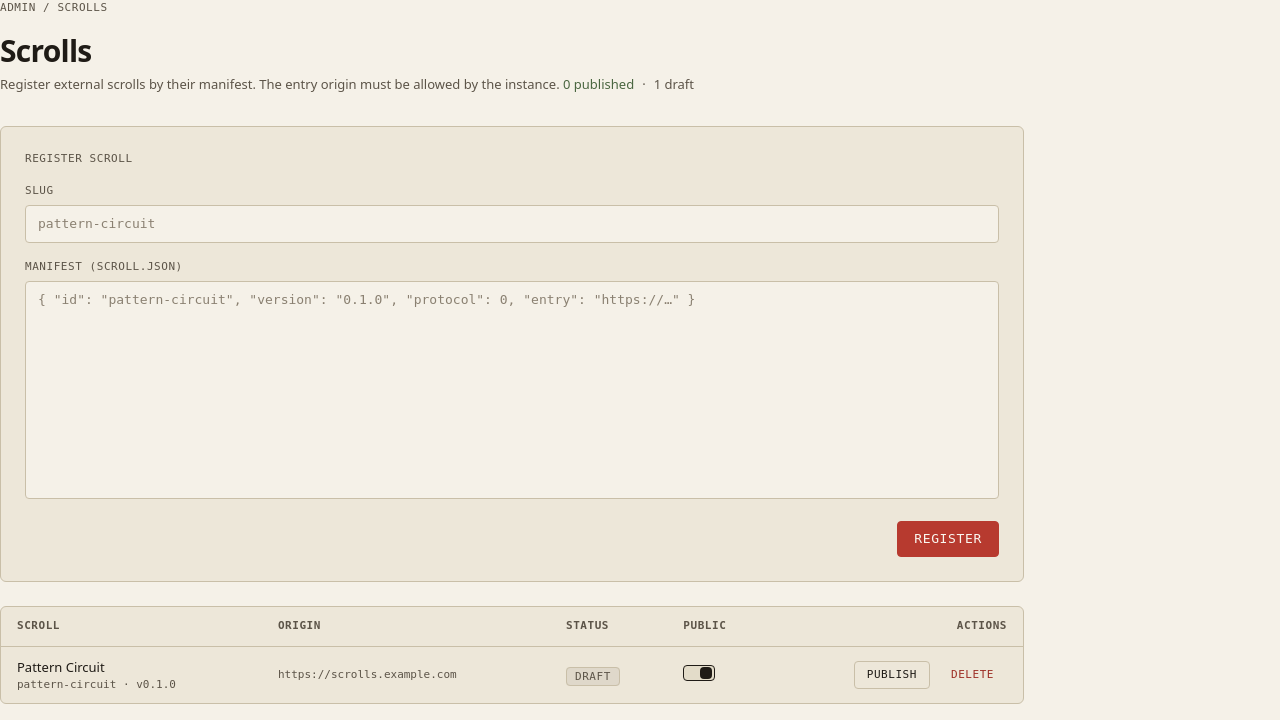
Test: AdminScrollsPage — delete › asks for confirmation and deletes nothing when cancelled
The image size is (1280, 720).
Click the button with aria-label "Delete pattern-circuit" at (972, 675), box [938,661,1007,689]
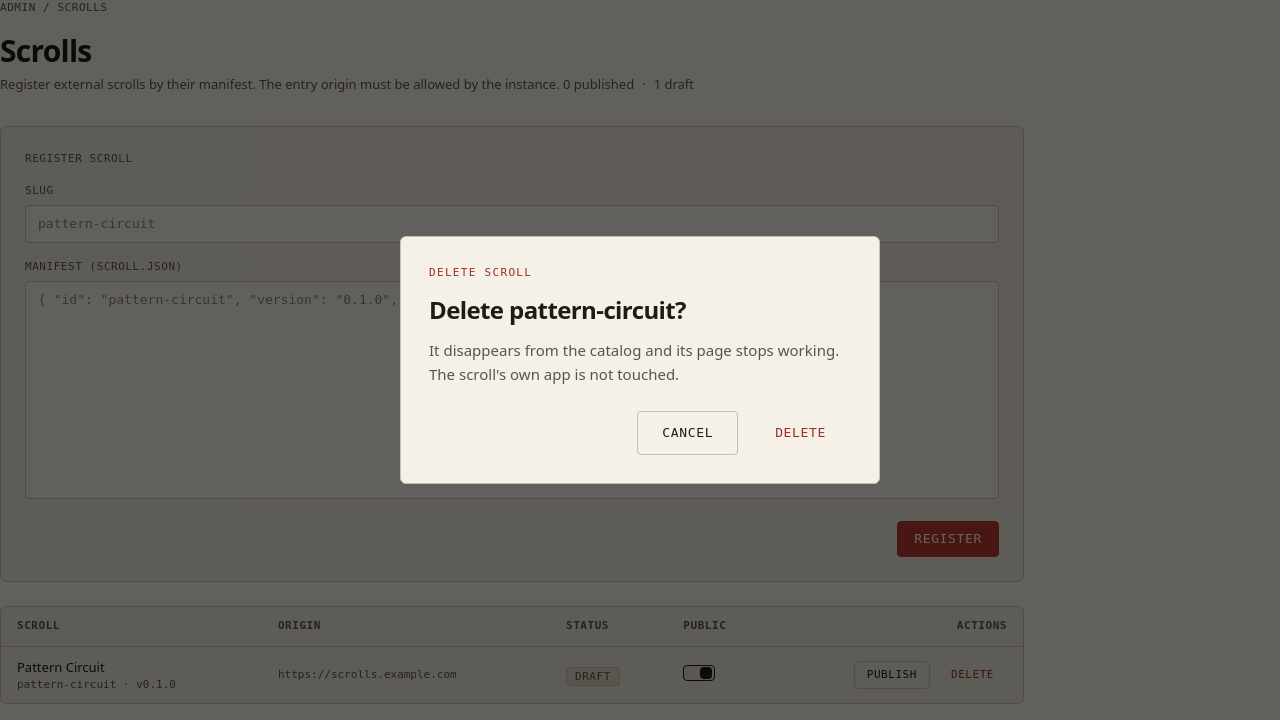
Now the heading "Delete pattern-circuit?" is shown, box [429,293,686,326]
Click the button "Cancel" at (688, 433), box [637,411,738,455]
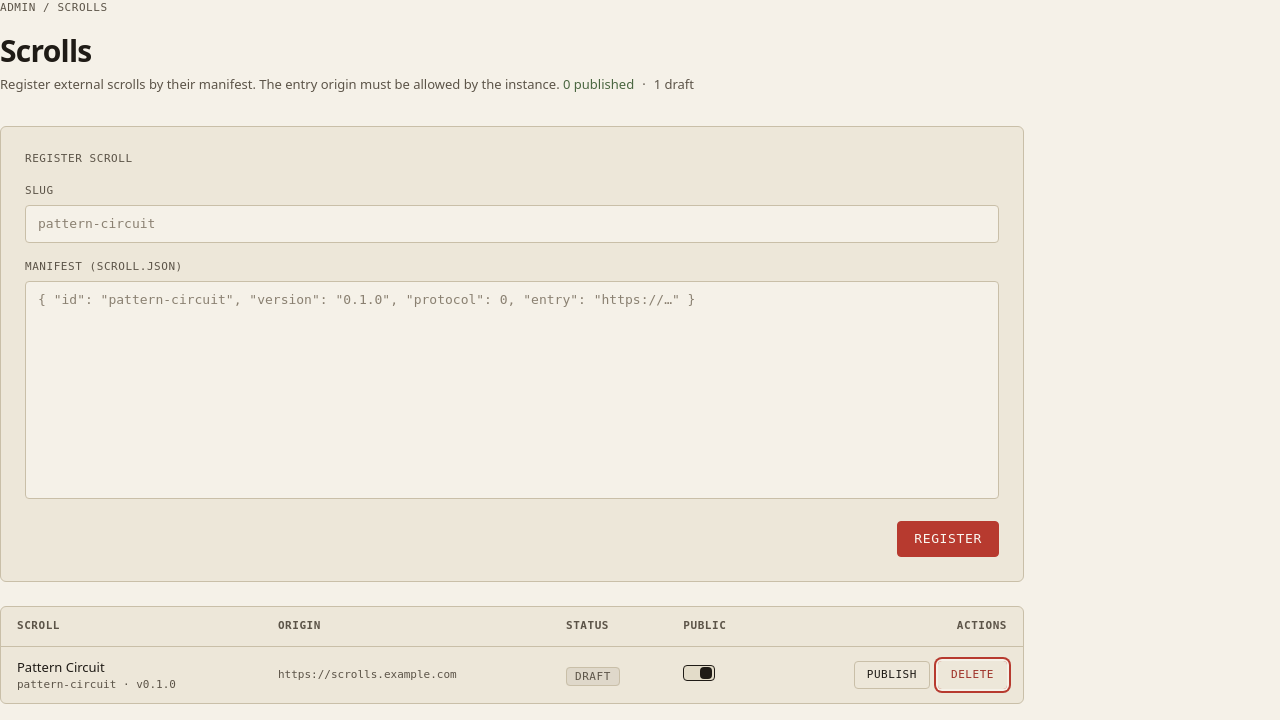
Now the heading "Delete pattern-circuit?" is gone
